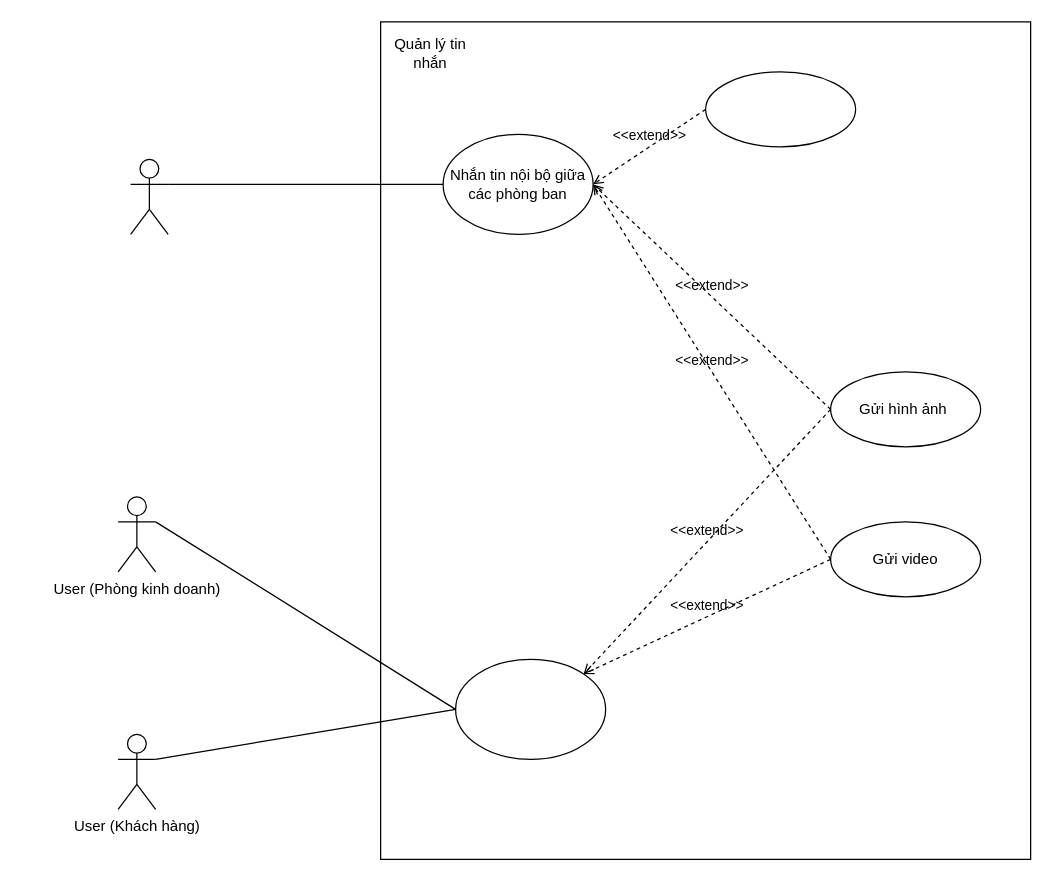
Image size: 1053x881. Some labels were removed from this diagram. Each missing label, with the centre of its shape:
"Filter danh sách khách hàng đang nhắn" goes at point 780,109.
"Nhắn tin giữa khách hàng và nơi bán" goes at point 530,708.
"User (Trưởng, liên lạc viên các phòng)" goes at point 148,196.
